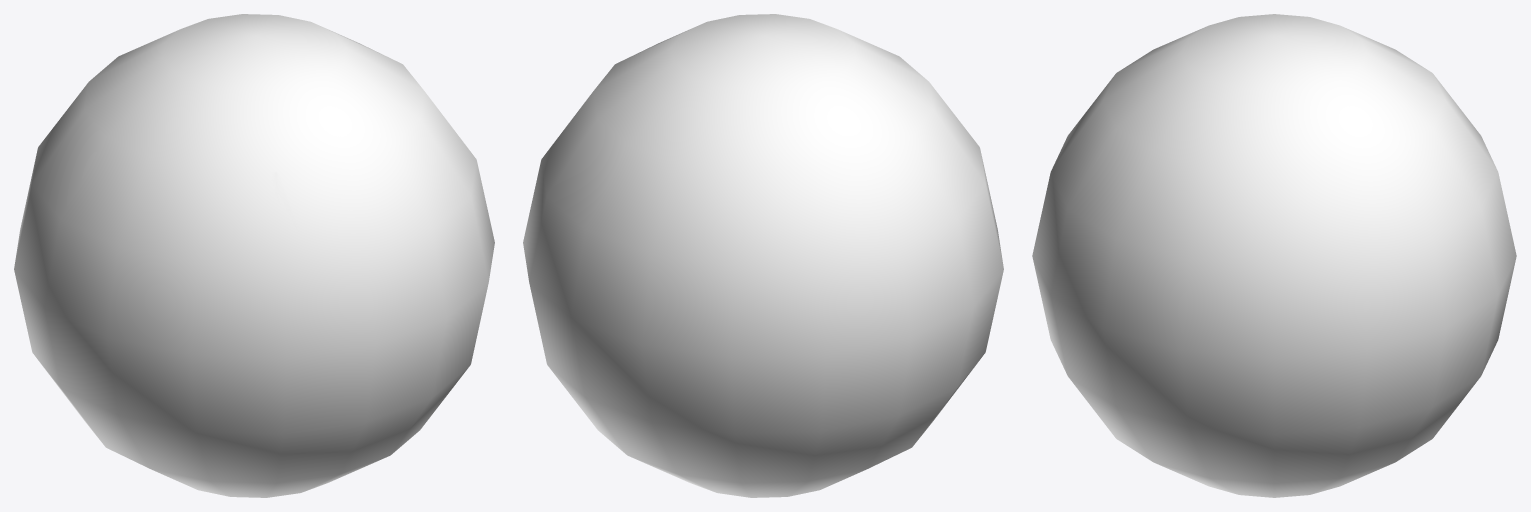
Rendered from terraltest.glb.
3 renders of one model, left to right at view 1: azimuth 30°, elevation 25°; view 2: azimuth 150°, elevation 25°; view 3: azimuth 270°, elevation 25°, orthographic.
Visible parts, largest first — view 1: Sphere; view 2: Sphere; view 3: Sphere.
Part boxes in pixels (<box>): Sphere: <box>14,14,494,497</box>; Sphere: <box>523,14,1003,497</box>; Sphere: <box>1032,14,1516,497</box>.
Bounding box in the file's own units: 2 × 2 × 2.
Materials: 1 (1 with a texture image).
